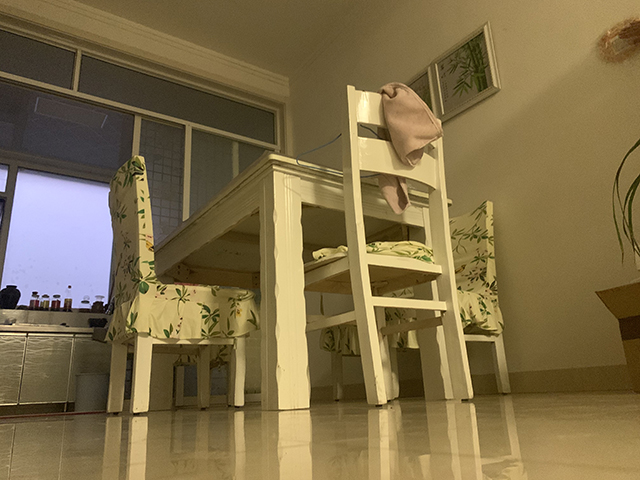cabinet: (1, 324, 111, 406)
stool: (104, 154, 262, 417), (382, 199, 513, 396), (318, 281, 422, 404)
table: (147, 149, 454, 411)
trashcan: (304, 83, 475, 409), (72, 371, 110, 415)
